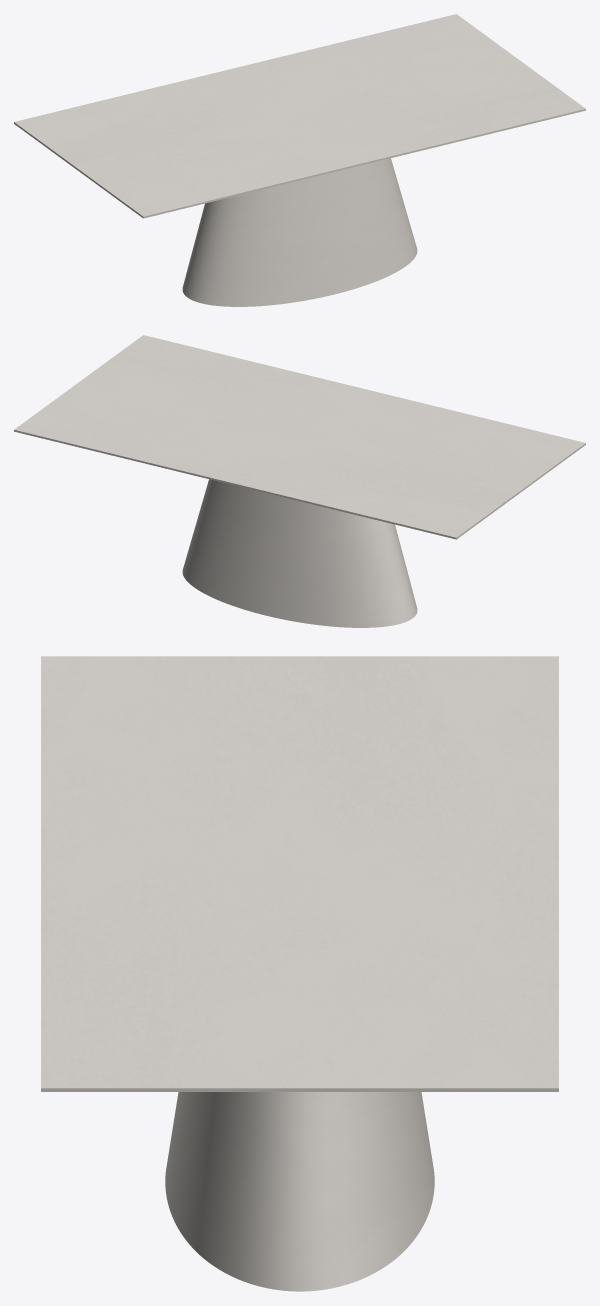
The model's file is purewhite_recta_facet_eqone.glb.
The picture shows the model from 3 angles, top to bottom: view 1: azimuth 30°, elevation 25°; view 2: azimuth 150°, elevation 25°; view 3: azimuth 270°, elevation 25°; orthographic projection. The views are drawn at different scales.
Parts seen in each view (by area): view 1: facet_recta, eqone; view 2: facet_recta, eqone; view 3: facet_recta, eqone.
Boxes of the visible parts, <box> form: facet_recta: <box>14,14,585,218</box>; eqone: <box>182,158,417,306</box>; facet_recta: <box>14,335,585,539</box>; eqone: <box>182,479,417,627</box>; facet_recta: <box>41,656,558,1091</box>; eqone: <box>165,1092,434,1291</box>.
Size of the model in its own units: 7.5 by 2.51 by 3.8.
Materials: 1 (1 with a texture image).
